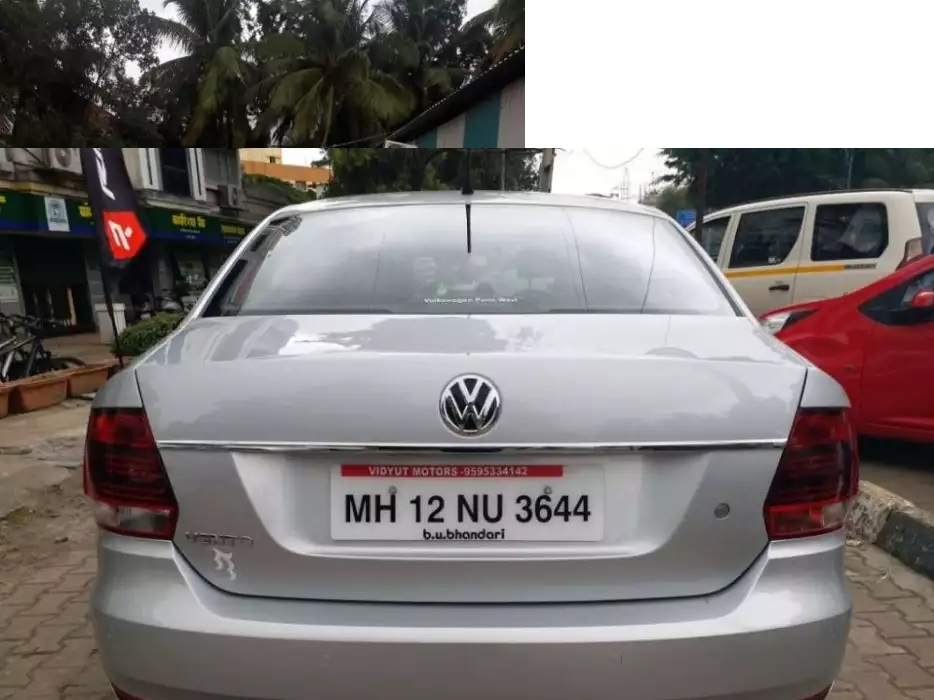licenseplate: (327, 455, 611, 546)
